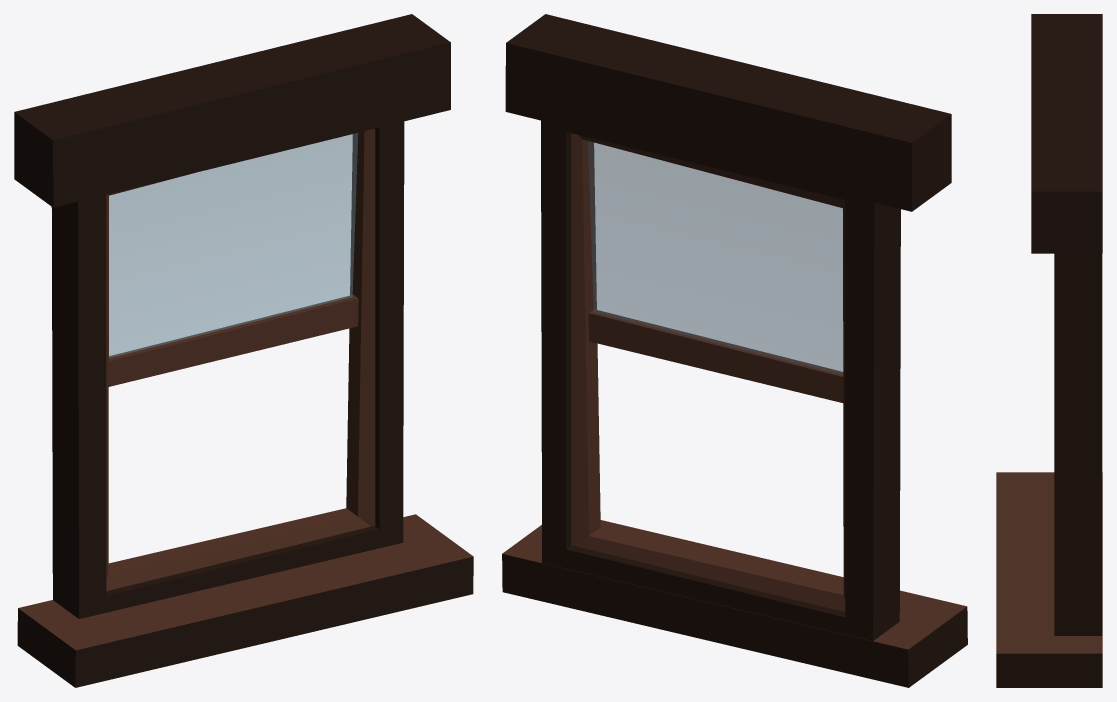
File: Window 1x2 V2 Open.glb
3 renders of one model, left to right at view 1: azimuth 30°, elevation 25°; view 2: azimuth 150°, elevation 25°; view 3: azimuth 270°, elevation 25°, orthographic. The views are drawn at different scales.
Visible parts, largest first — view 1: Window 1x2 V2 Open; view 2: Window 1x2 V2 Open; view 3: Window 1x2 V2 Open.
Boxes of the visible parts, box(x1,y1,x2,y2) form: Window 1x2 V2 Open: box(14, 14, 473, 687); Window 1x2 V2 Open: box(502, 14, 967, 687); Window 1x2 V2 Open: box(996, 14, 1102, 687).
Bounding box in the file's own units: 1.42 × 1.82 × 0.3537.
2 materials, 2 textured.
